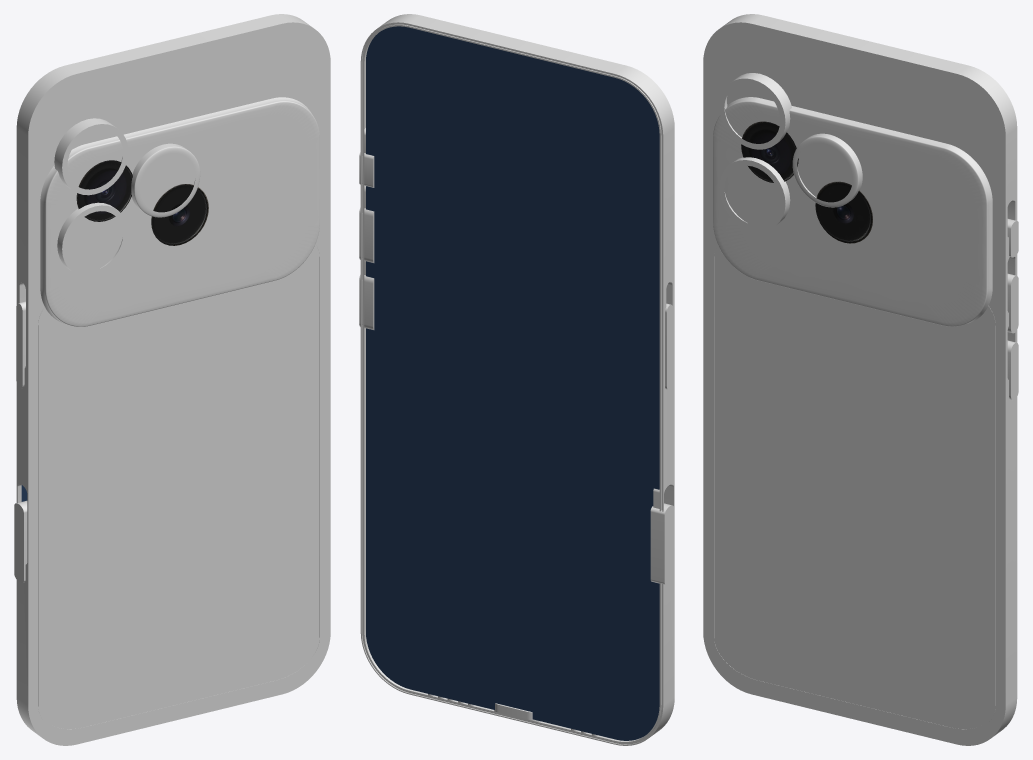
File: smart_device.glb
3 views of the same model, side by side, from view 1: azimuth 30°, elevation 25°; view 2: azimuth 150°, elevation 25°; view 3: azimuth 330°, elevation 25° (orthographic).
Parts seen in each view (by area): view 1: Object_10, Object_11, Object_12, Object_4; view 2: Object_8, Object_10, Object_12; view 3: Object_10, Object_11, Object_12, Object_4.
Boxes of the visible parts, x1,y1,x2,y2 form: Object_10: (16,14,330,745); Object_11: (40,97,319,326); Object_12: (14,118,200,582); Object_4: (76,160,208,245); Object_8: (366,26,659,740); Object_10: (360,14,674,745); Object_12: (359,152,674,585); Object_10: (703,14,1017,745); Object_11: (713,97,992,326); Object_12: (719,73,1018,400); Object_4: (741,121,872,243).
Bounding box in the file's own units: 1.44 × 3.01 × 0.1712.
8 materials, 2 textured.
